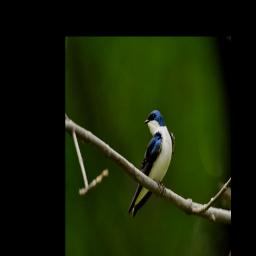Swallow: (127, 109, 176, 218)
